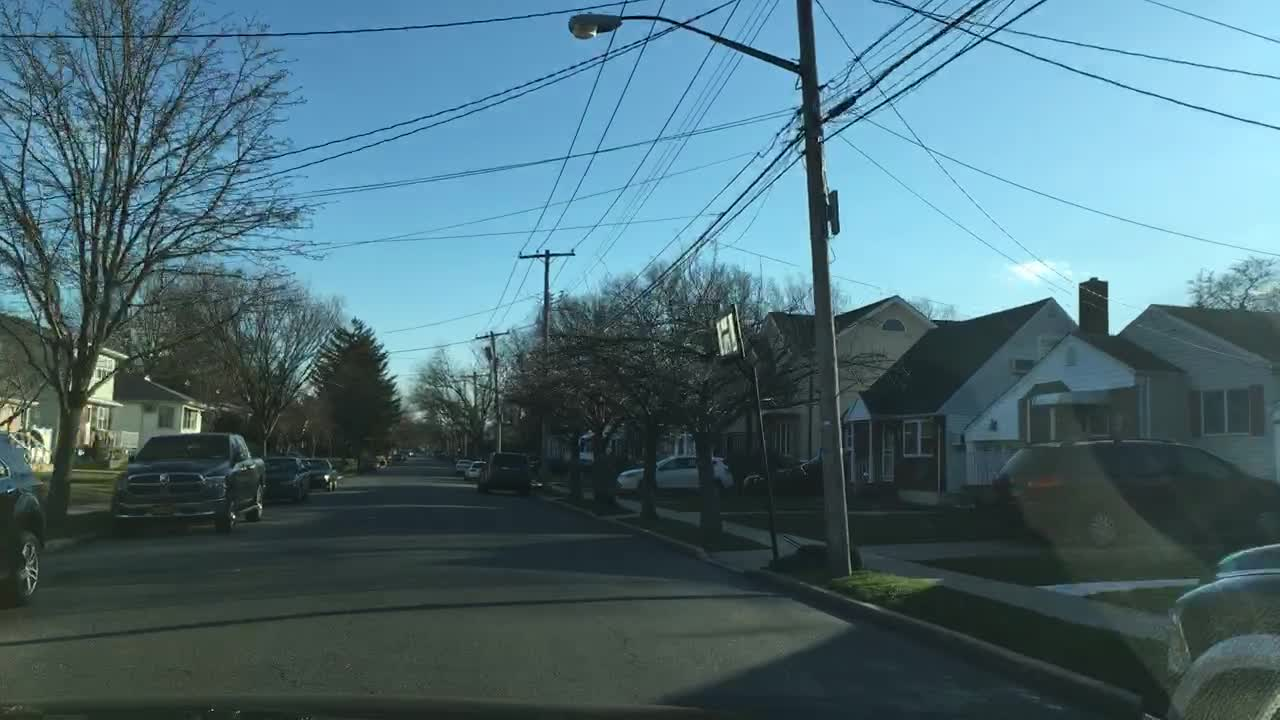car: (988, 435, 1275, 546), (1163, 538, 1277, 713), (107, 430, 266, 531), (0, 428, 50, 613), (617, 450, 736, 495), (475, 448, 534, 494), (258, 454, 308, 507), (301, 457, 338, 490), (462, 460, 485, 481), (453, 455, 472, 474), (372, 455, 388, 471), (390, 452, 407, 464)
